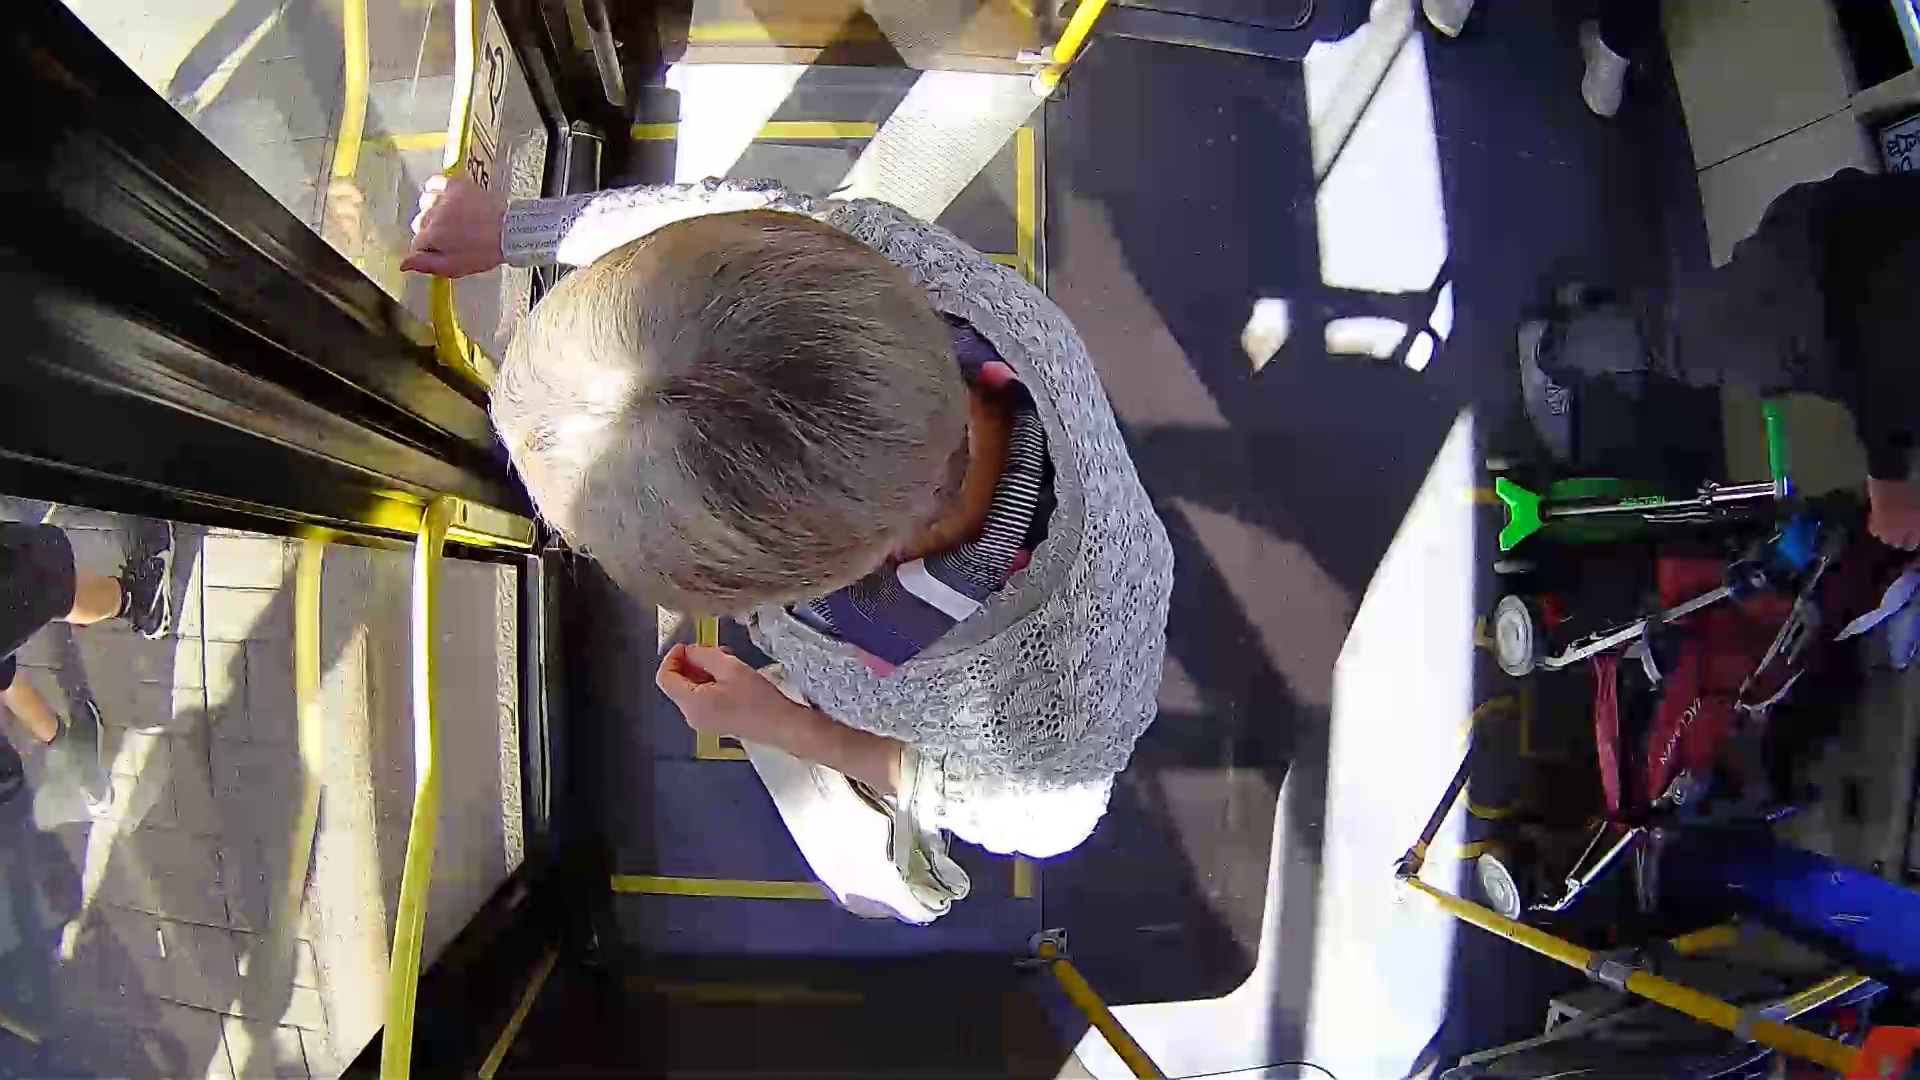person: (409, 132, 1188, 840)
